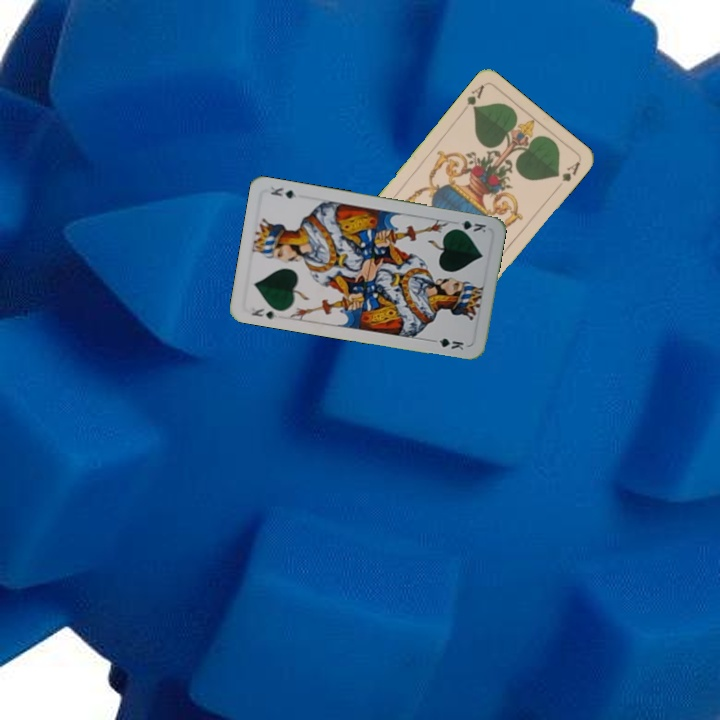GA: (462, 80, 487, 114)
GK: (449, 216, 488, 235), (247, 303, 279, 322)
